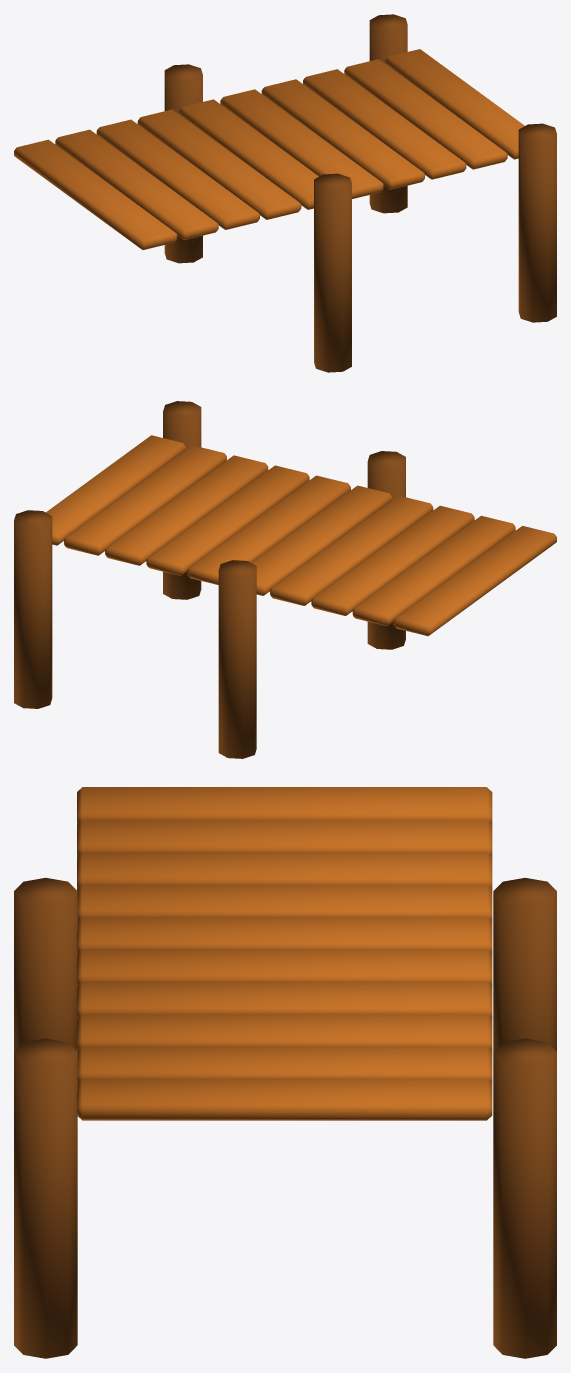
Rendered from WoodBoatDock.fbx.
3 renders of one model, top to bottom at view 1: azimuth 30°, elevation 25°; view 2: azimuth 150°, elevation 25°; view 3: azimuth 270°, elevation 25°, orthographic. The views are drawn at different scales.
Parts seen in each view (by area): view 1: Cube.304; view 2: Cube.304; view 3: Cube.304.
Part boxes in pixels (x1,y1,x2,y2): Cube.304: (14, 14, 556, 372); Cube.304: (14, 401, 556, 758); Cube.304: (14, 787, 556, 1358).
Size of the model in its own units: 1143 by 488 by 818.
